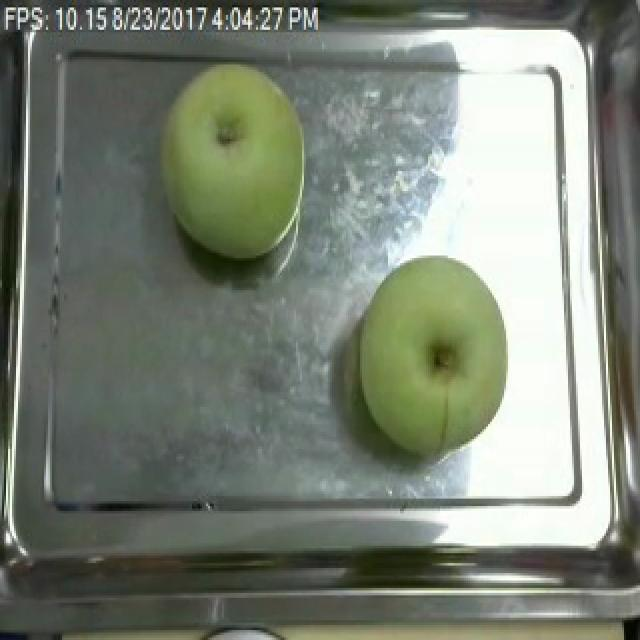50-_ripeness: (167, 62, 311, 260), (361, 255, 503, 447)
